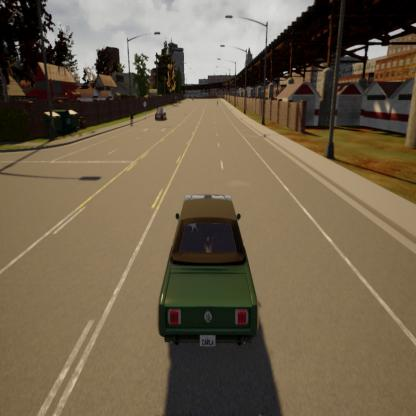Cars: (148, 188, 264, 362), (154, 105, 168, 122)
